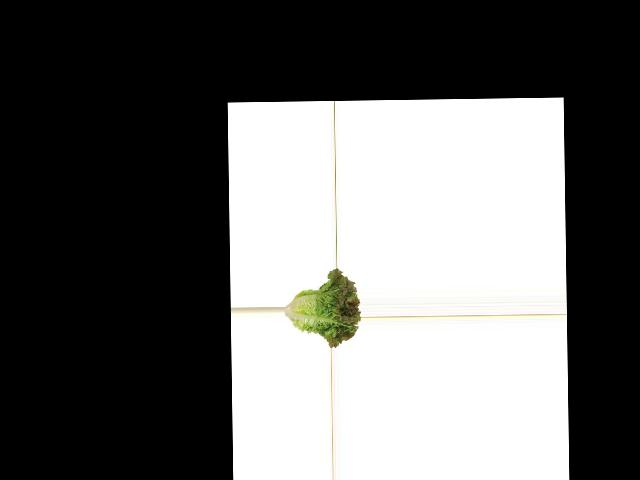lettuce: (283, 268, 360, 347)
